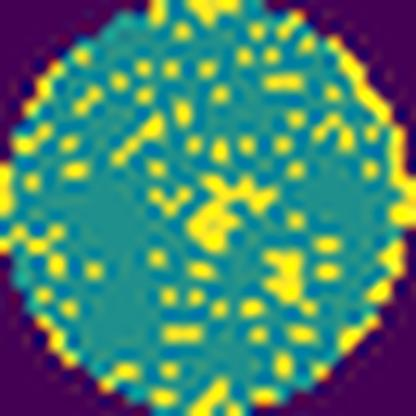Center: (179, 173, 280, 256)
